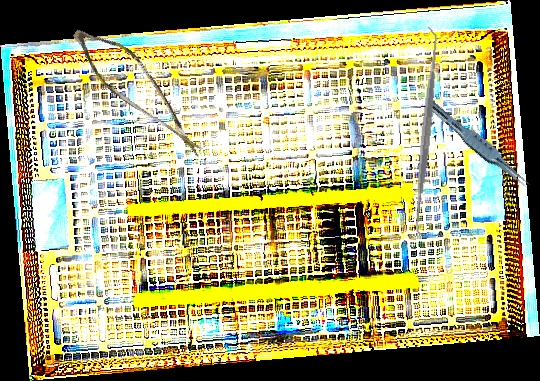Micro Scissor: (54, 19, 230, 160)
Spatula Surgical: (404, 26, 448, 236)
Tissue Forceps: (420, 98, 536, 192)
